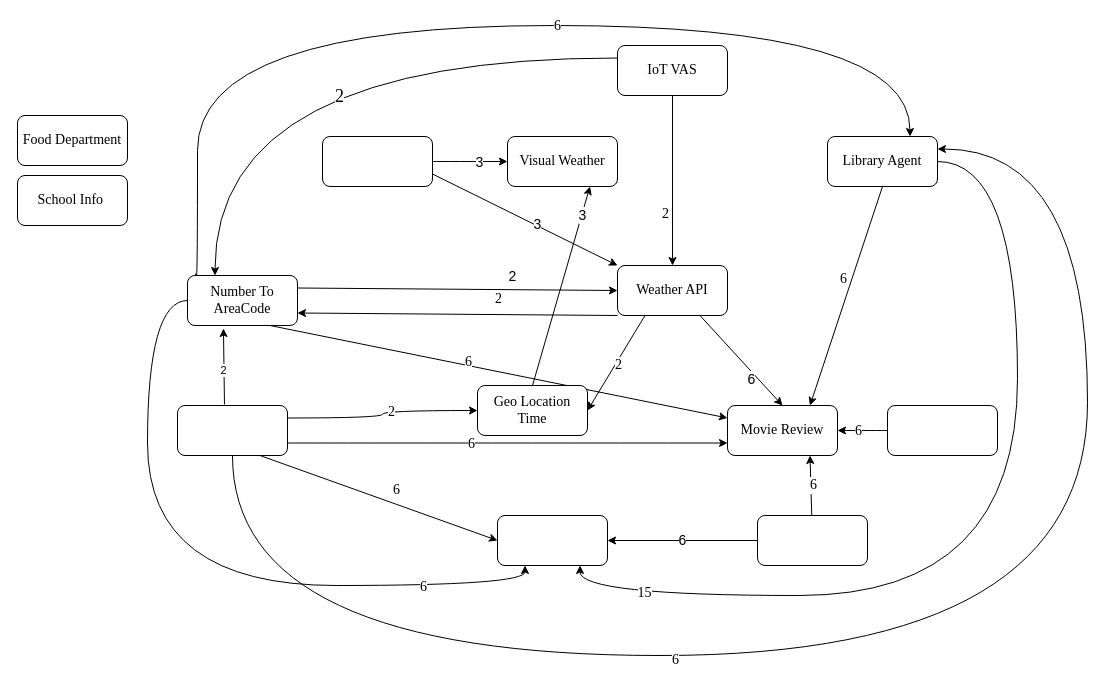
Image size: 1105x685. Some labels were removed from this diagram. Each missing label, with the centre of its shape:
Bike Wise: the point at 942,430
Books API: the point at 552,540
Currency Exchange: the point at 812,540
IP To Location: the point at 377,161
Travel API: the point at 232,430
